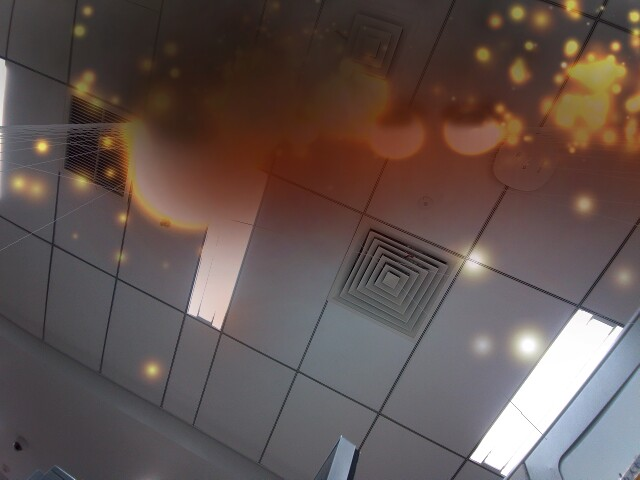fire: (118, 106, 270, 230), (445, 102, 506, 159), (372, 107, 432, 161)
